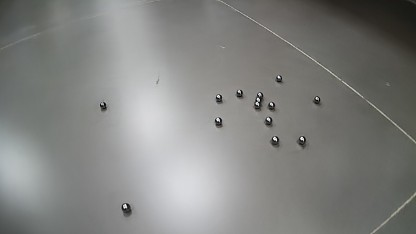ironball: (121, 203, 131, 213), (264, 116, 272, 125), (271, 136, 279, 145), (298, 136, 306, 145), (214, 117, 222, 125), (99, 101, 106, 110), (268, 101, 275, 109), (236, 89, 243, 97), (215, 94, 222, 102), (313, 96, 320, 104), (256, 92, 263, 100), (275, 75, 282, 82), (254, 101, 260, 109), (255, 97, 261, 103)
